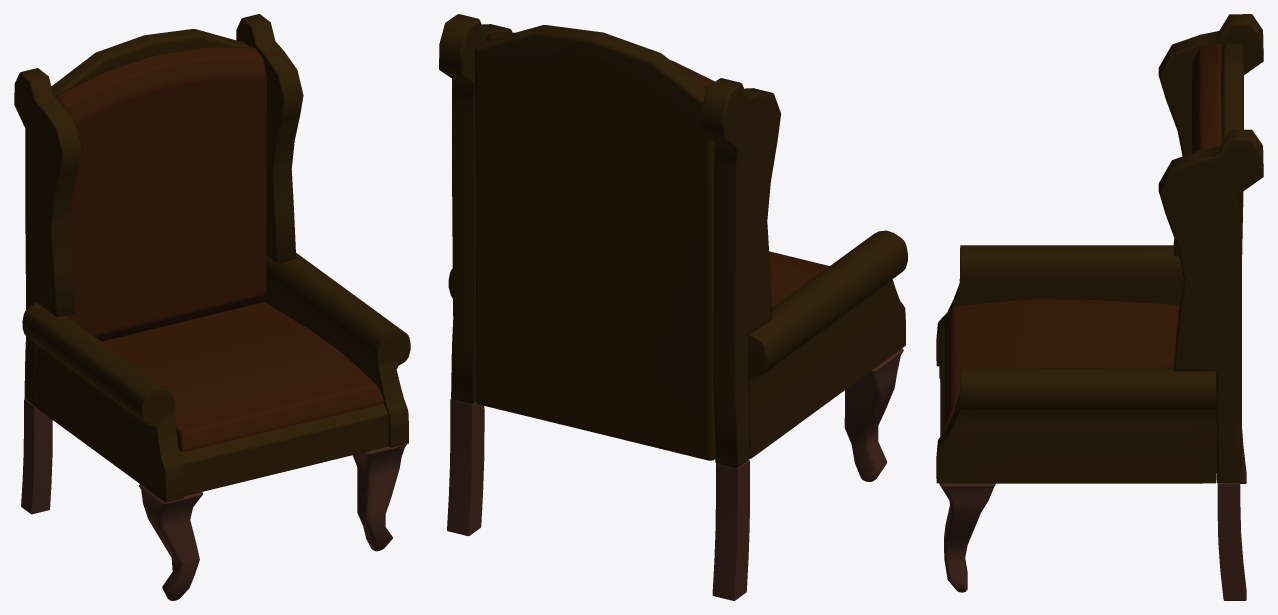
The model's file is deskChair.fbx.
The picture shows the model from 3 angles, left to right: view 1: azimuth 30°, elevation 25°; view 2: azimuth 150°, elevation 25°; view 3: azimuth 270°, elevation 25°; orthographic projection. The views are drawn at different scales.
Visible parts, largest first — view 1: back_cushion, seat_cushion, rt_arm, rt_upper_arm, lt_arm, seat, lt_upper_arm, back, rt_leg, lt_leg, rt_back_leg; view 2: back, rt_arm, rt_upper_arm, lt_upper_arm, rt_back_leg, lt_back_leg, rt_leg, seat_cushion; view 3: lt_arm, lt_upper_arm, seat_cushion, rt_arm, rt_upper_arm, back_cushion, lt_leg, lt_back_leg, back, seat.
Boxes of the visible parts, x1=… form: back_cushion: x1=55, y1=47, x2=266, y2=341; seat_cushion: x1=102, y1=302, x2=383, y2=452; rt_arm: x1=22, y1=303, x2=183, y2=502; rt_upper_arm: x1=14, y1=68, x2=81, y2=405; lt_arm: x1=262, y1=253, x2=410, y2=447; seat: x1=179, y1=403, x2=388, y2=496; lt_upper_arm: x1=236, y1=14, x2=303, y2=263; back: x1=51, y1=29, x2=249, y2=96; rt_leg: x1=139, y1=484, x2=202, y2=600; lt_leg: x1=353, y1=444, x2=406, y2=551; rt_back_leg: x1=21, y1=399, x2=52, y2=514; back: x1=474, y1=25, x2=715, y2=460; rt_arm: x1=748, y1=230, x2=907, y2=458; rt_upper_arm: x1=701, y1=78, x2=780, y2=468; lt_upper_arm: x1=439, y1=14, x2=512, y2=403; rt_back_leg: x1=712, y1=460, x2=749, y2=600; lt_back_leg: x1=447, y1=398, x2=484, y2=536; rt_leg: x1=844, y1=348, x2=903, y2=481; seat_cushion: x1=769, y1=251, x2=829, y2=307; lt_arm: x1=936, y1=367, x2=1216, y2=483; lt_upper_arm: x1=1158, y1=129, x2=1263, y2=482; seat_cushion: x1=944, y1=299, x2=1216, y2=435; rt_arm: x1=936, y1=245, x2=1183, y2=366; rt_upper_arm: x1=1158, y1=14, x2=1263, y2=256; back_cushion: x1=1191, y1=43, x2=1222, y2=422; lt_leg: x1=939, y1=483, x2=995, y2=592; lt_back_leg: x1=1217, y1=483, x2=1246, y2=600; back: x1=1221, y1=43, x2=1243, y2=469; seat: x1=940, y1=329, x2=1216, y2=472.
Size of the model in its own units: 77.12 by 76.11 by 122.
